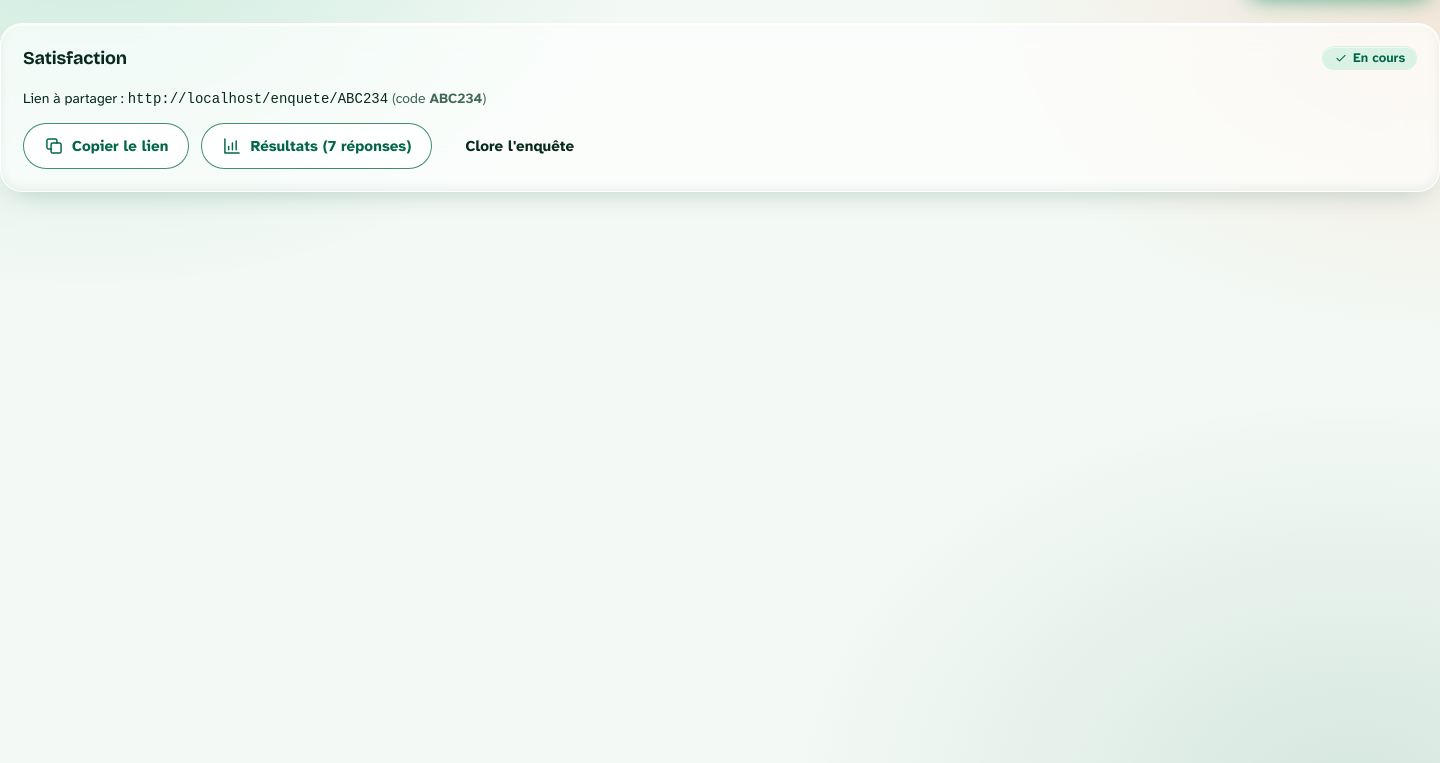
Marchés : relevés, analyses, stocks, enquêtes, formations, vitrine › résultats d’enquête : les petites cellules sont masquées, les commentaires sont lisibles du personnel
Expected: the text "http://localhost/enquete/ABC234" is shown, 128,91 -> 388,107
Click the button "Résultats (7 réponses)" at (317, 146), box 201,123 -> 432,169
(page scrolled)
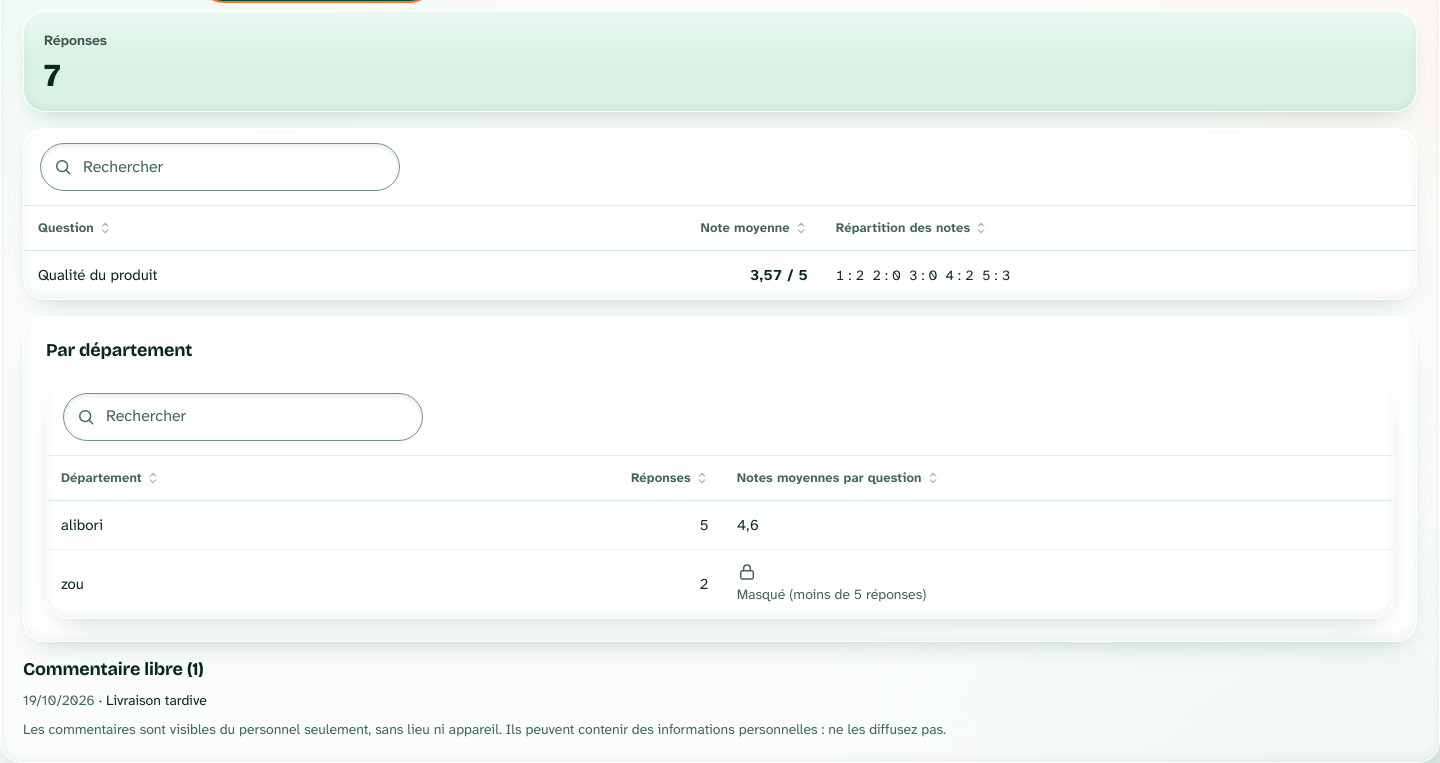
Now the text "3,57 / 5" is shown, box 750,265 -> 808,285
Now the text "Masqué (moins de 5 réponses)" is shown, box 737,562 -> 926,603
Now the text "4,6" is shown, box 737,515 -> 759,535
